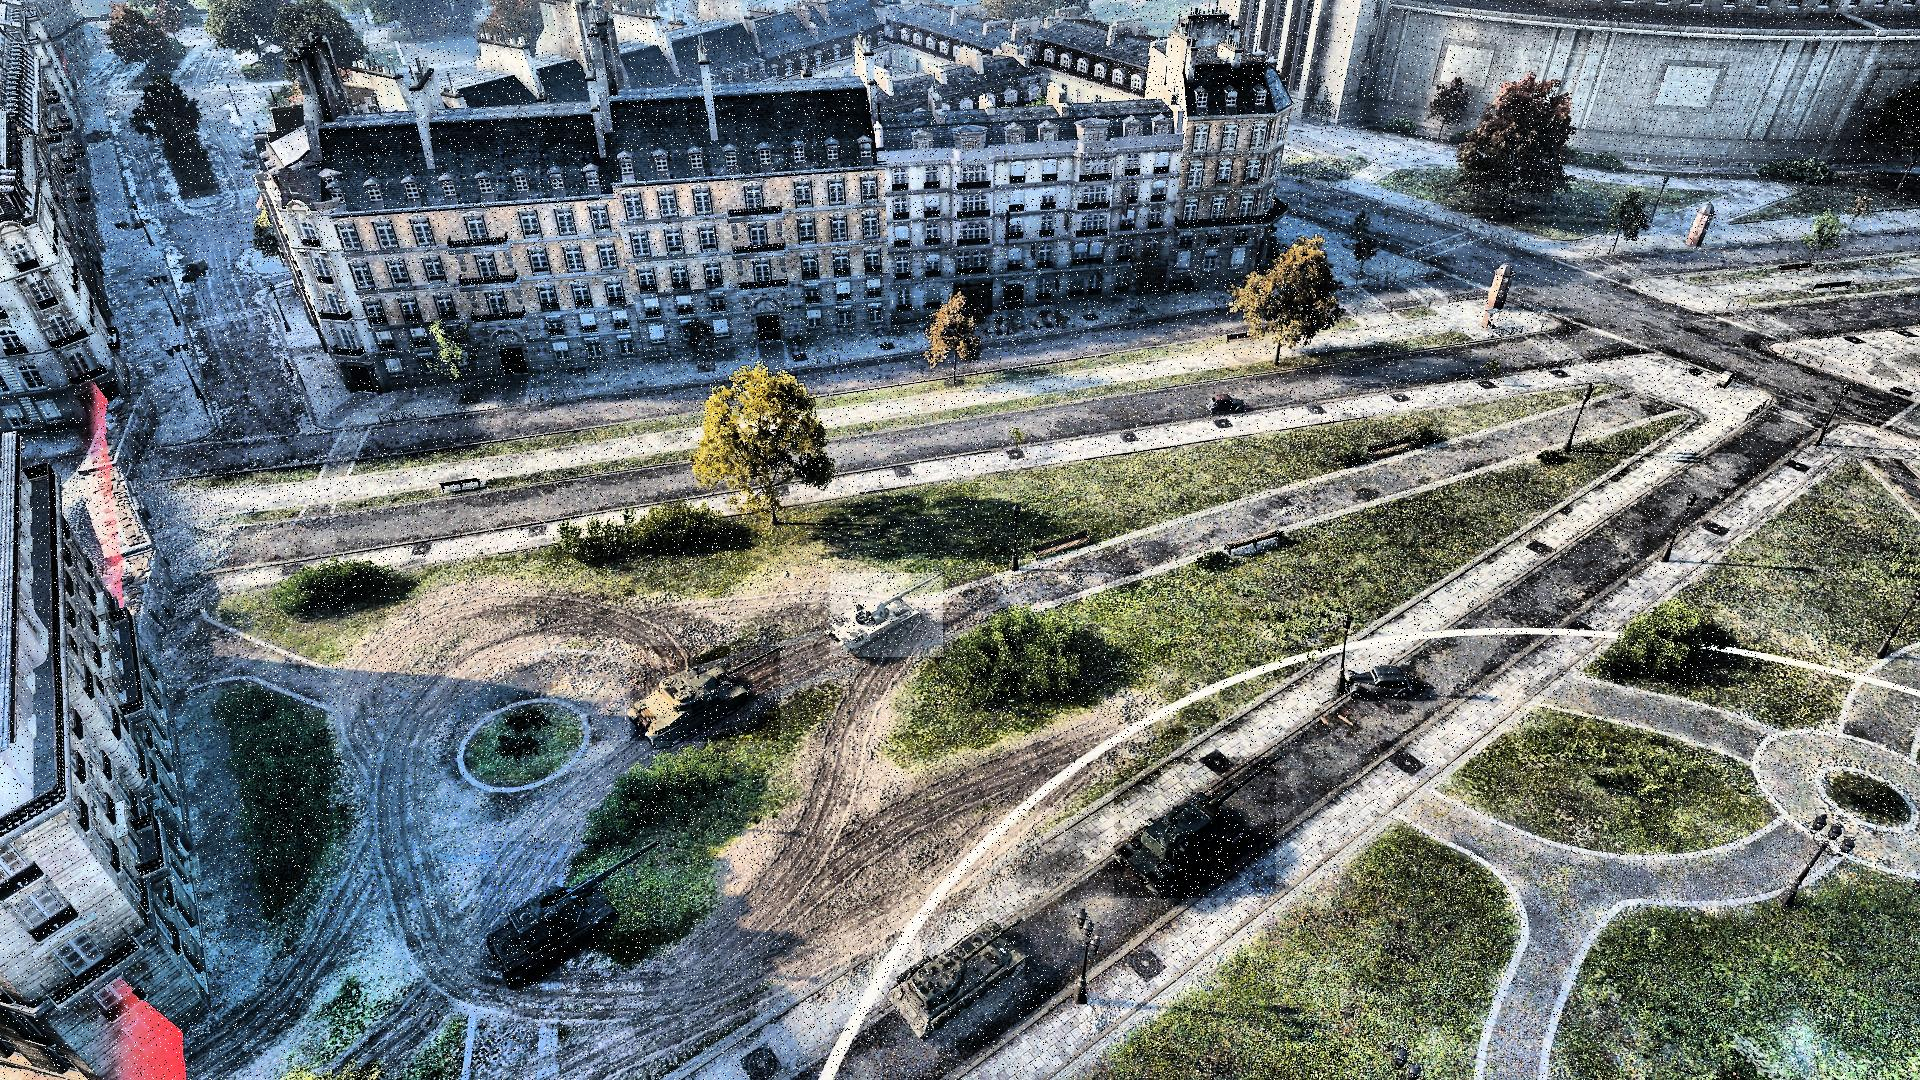military-vehicle: (480, 841, 659, 985), (1114, 757, 1276, 898), (890, 913, 1025, 1036), (630, 646, 781, 741), (829, 574, 943, 657)
